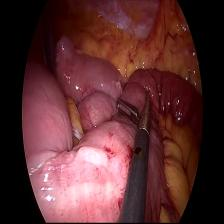Grasper: (116, 86, 155, 134)
